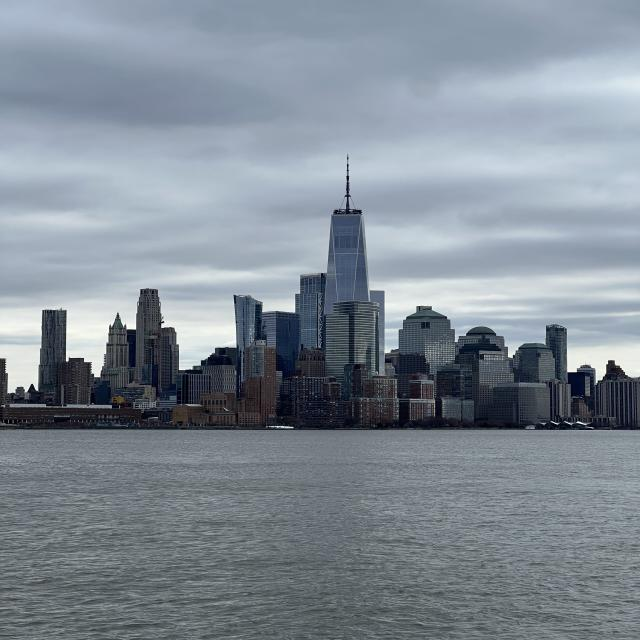WTC: (325, 152, 371, 304)
